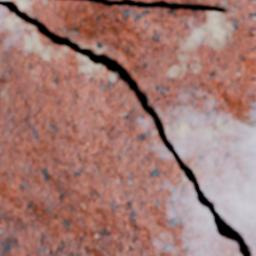brick: (15, 0, 255, 255), (0, 7, 240, 255), (142, 0, 159, 1)
crack: (0, 0, 253, 255), (53, 0, 229, 14)
